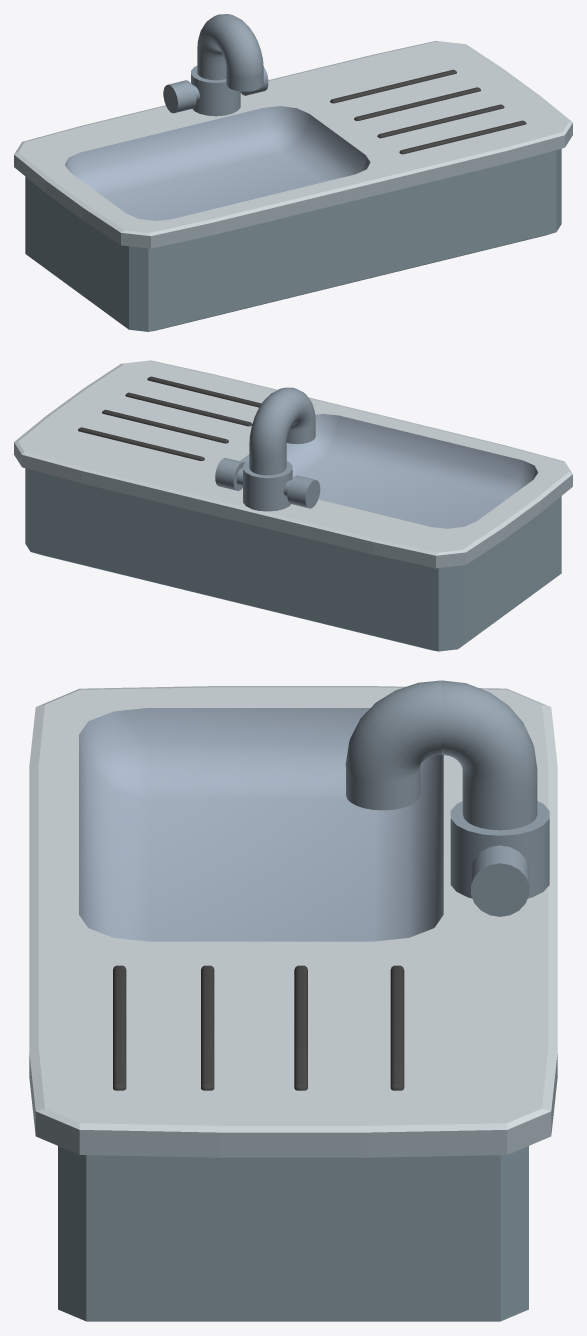
Rendered from Sink_0603_2.fbx.
3 renders of one model, top to bottom at view 1: azimuth 30°, elevation 25°; view 2: azimuth 150°, elevation 25°; view 3: azimuth 270°, elevation 25°, orthographic. The views are drawn at different scales.
Visible parts, largest first — view 1: Cook_Stand_B, Loft002, Cylinder006, Cylinder009, ChamferBox008, ChamferBox007, ChamferBox005, ChamferBox006; view 2: Cook_Stand_B, Loft002, Cylinder006, Cylinder009, Cylinder010, ChamferBox006, ChamferBox007, ChamferBox005, ChamferBox008; view 3: Cook_Stand_B, Loft002, Cylinder006, Cylinder010, ChamferBox005, ChamferBox008, ChamferBox006, ChamferBox007.
Part boxes in pixels (x1=…): Cook_Stand_B: x1=14, y1=41, x2=572, y2=331; Loft002: x1=197, y1=14, x2=263, y2=91; Cylinder006: x1=191, y1=66, x2=240, y2=116; Cylinder009: x1=163, y1=80, x2=196, y2=113; ChamferBox008: x1=399, y1=120, x2=526, y2=154; ChamferBox007: x1=377, y1=104, x2=504, y2=138; ChamferBox005: x1=330, y1=69, x2=456, y2=103; ChamferBox006: x1=354, y1=87, x2=480, y2=120; Cook_Stand_B: x1=14, y1=360, x2=572, y2=651; Loft002: x1=249, y1=387, x2=315, y2=475; Cylinder006: x1=243, y1=461, x2=292, y2=511; Cylinder009: x1=287, y1=475, x2=320, y2=508; Cylinder010: x1=215, y1=458, x2=244, y2=490; ChamferBox006: x1=102, y1=409, x2=228, y2=443; ChamferBox007: x1=125, y1=392, x2=252, y2=426; ChamferBox005: x1=78, y1=427, x2=204, y2=460; ChamferBox008: x1=147, y1=376, x2=261, y2=407; Cook_Stand_B: x1=29, y1=686, x2=557, y2=1321; Loft002: x1=345, y1=680, x2=537, y2=830; Cylinder006: x1=450, y1=801, x2=549, y2=898; Cylinder010: x1=471, y1=845, x2=529, y2=916; ChamferBox005: x1=390, y1=965, x2=404, y2=1090; ChamferBox008: x1=113, y1=965, x2=126, y2=1090; ChamferBox006: x1=294, y1=965, x2=307, y2=1090; ChamferBox007: x1=201, y1=965, x2=214, y2=1090.
Bounding box in the file's own units: 84.56 × 35.98 × 42.28.
4 materials, 1 textured.
